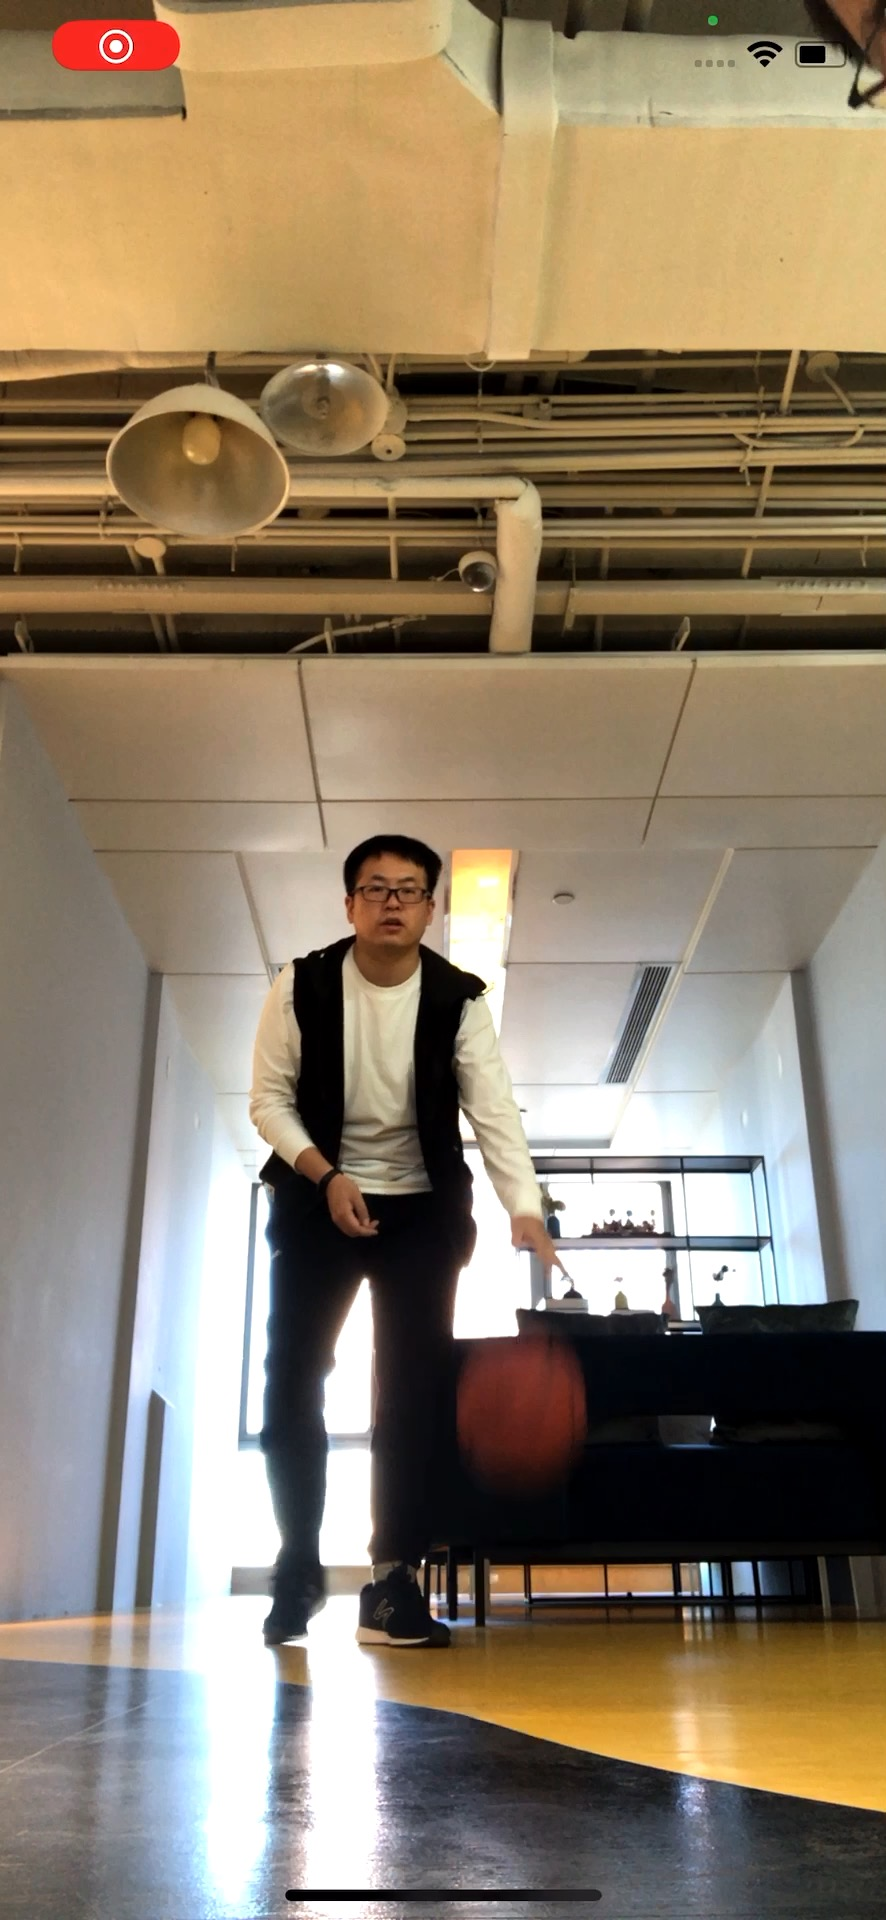ball: (453, 1343, 586, 1472)
